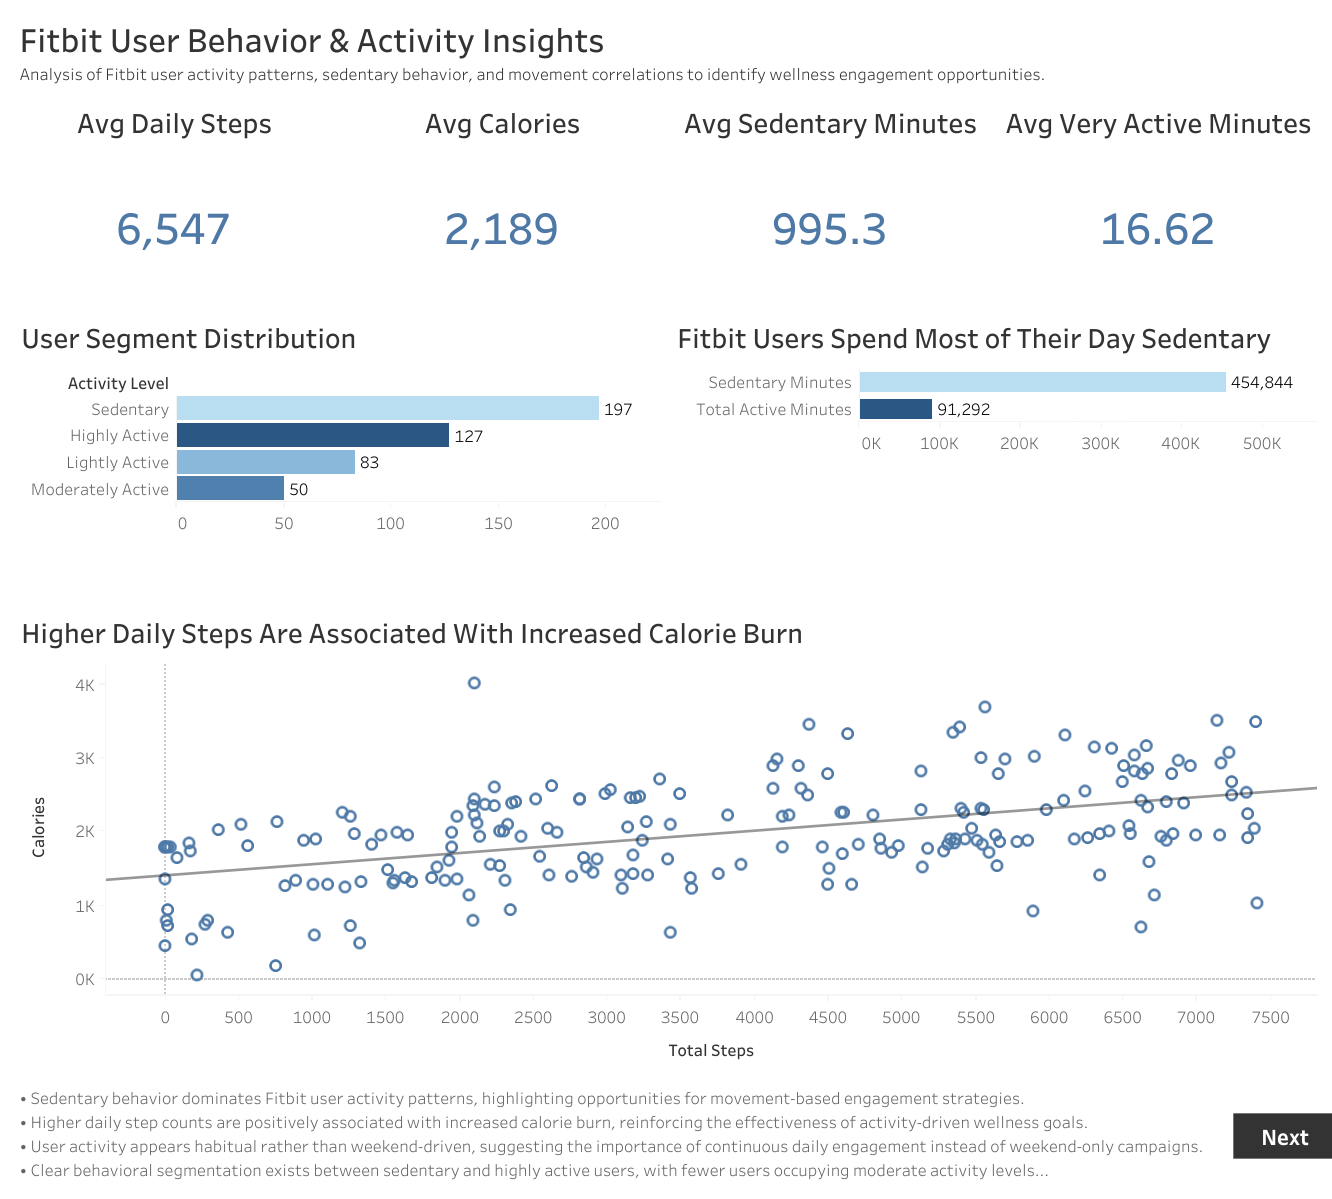

This screenshot's page, from the dashboard's own definition file:
{"tool":"tableau","page":{"name":"Dashboard 1 - User Activity Insights","canvas":[1000,900],"ordinal":0},"visuals":[{"type":"title","box":[8,8,984,60]},{"type":"worksheet","title":"KPI - Avg Daily Steps","mark":"Automatic","box":[8,68,246,161.5]},{"type":"worksheet","title":"KPI - Avg Calories","mark":"Automatic","box":[254,68,246,161.5]},{"type":"worksheet","title":"KPI - Avg Sedentary Minutes","mark":"Automatic","box":[500,68,246,161.5]},{"type":"worksheet","title":"KPI - Avg Very Active Minutes","mark":"Automatic","box":[746,68,246,161.5]},{"type":"worksheet","title":"User Segment Distribution","mark":"Automatic","rows":["activity_level"],"cols":["total_records"],"box":[8,229.5,492,220.5]},{"type":"worksheet","title":"Sedentary vs Active Minutes","mark":"Automatic","box":[500,229.5,492,220.5]},{"type":"worksheet","title":"Steps vs Calories Correlation","mark":"Automatic","rows":["calories"],"cols":["total_steps"],"box":[8,450,984,357]},{"type":"text","box":[8,807,984,85]},{"type":"dashboard-object","box":[925,835,78,34]}]}

Visuals, with their boxes in screenshot pixels (x1, y1, x2, y2), scaled from the page's 1000x900 canvas onto the 1332x1199 screenshot:
title: select_region(11, 11, 1321, 91)
"KPI - Avg Daily Steps" worksheet: select_region(11, 91, 338, 306)
"KPI - Avg Calories" worksheet: select_region(338, 91, 666, 306)
"KPI - Avg Sedentary Minutes" worksheet: select_region(666, 91, 994, 306)
"KPI - Avg Very Active Minutes" worksheet: select_region(994, 91, 1321, 306)
"User Segment Distribution" worksheet: select_region(11, 306, 666, 600)
"Sedentary vs Active Minutes" worksheet: select_region(666, 306, 1321, 600)
"Steps vs Calories Correlation" worksheet: select_region(11, 600, 1321, 1075)
text: select_region(11, 1075, 1321, 1188)
dashboard-object: select_region(1232, 1112, 1331, 1158)
